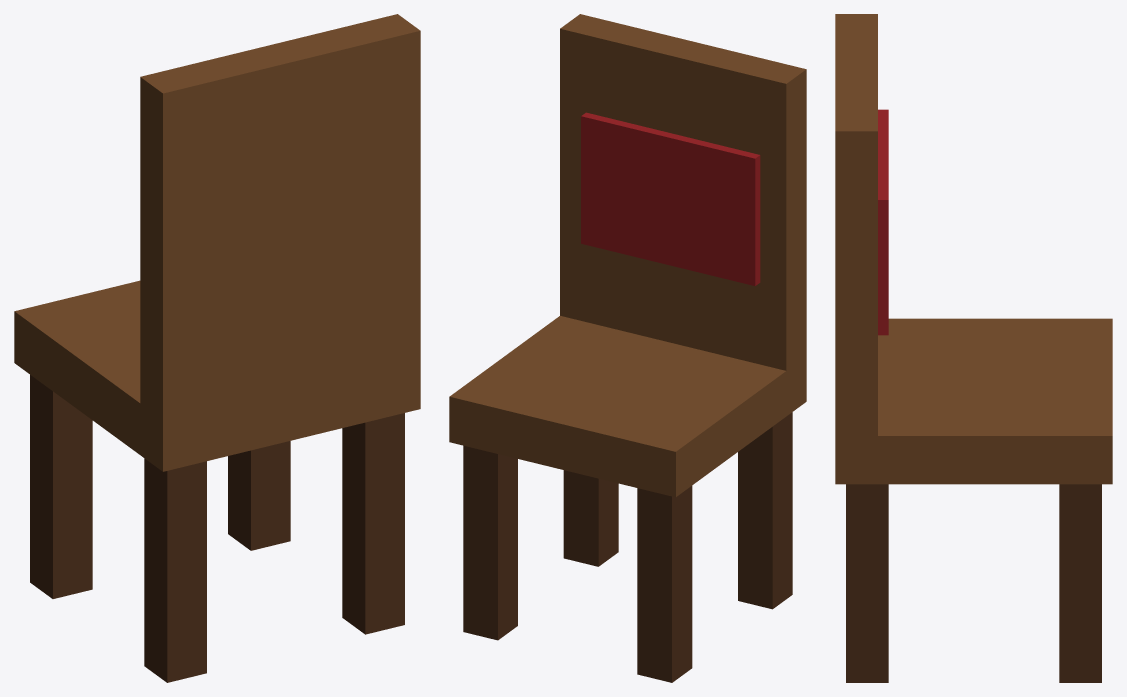
File: ld-chair.glb
3 views of the same model, side by side, from view 1: azimuth 30°, elevation 25°; view 2: azimuth 150°, elevation 25°; view 3: azimuth 270°, elevation 25° (orthographic). The views are drawn at different scales.
Parts seen in each view (by area): view 1: box-prop; view 2: box-prop; view 3: box-prop.
Part boxes in pixels (x1,y1,x2,y2): box-prop: (14,14,420,682); box-prop: (449,14,806,682); box-prop: (835,14,1112,682).
Size of the model in its own units: 0.52 by 1.15 by 0.52.
